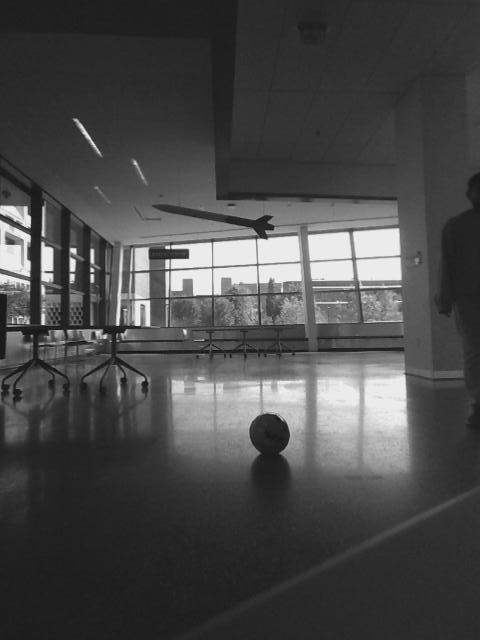ball: (248, 412, 293, 456)
